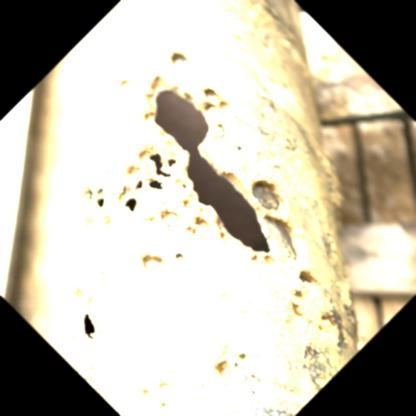burst: (150, 89, 286, 259)
